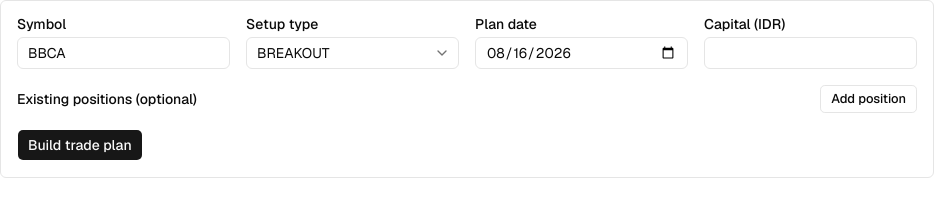
TradePlanForm › shows a validation error and never submits when capital is left blank
What coordinates should you click on to do the following:
click the button "Build trade plan"
I would click on:
 (80, 145)
Its box is x1=17 y1=129 x2=143 y2=161.
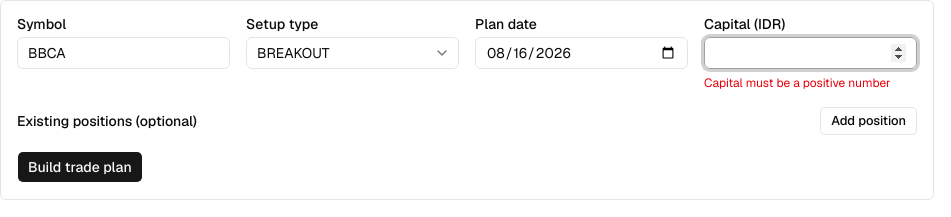
Check: the text "Capital must be a positive number" is shown, box x1=704 y1=75 x2=917 y2=91
